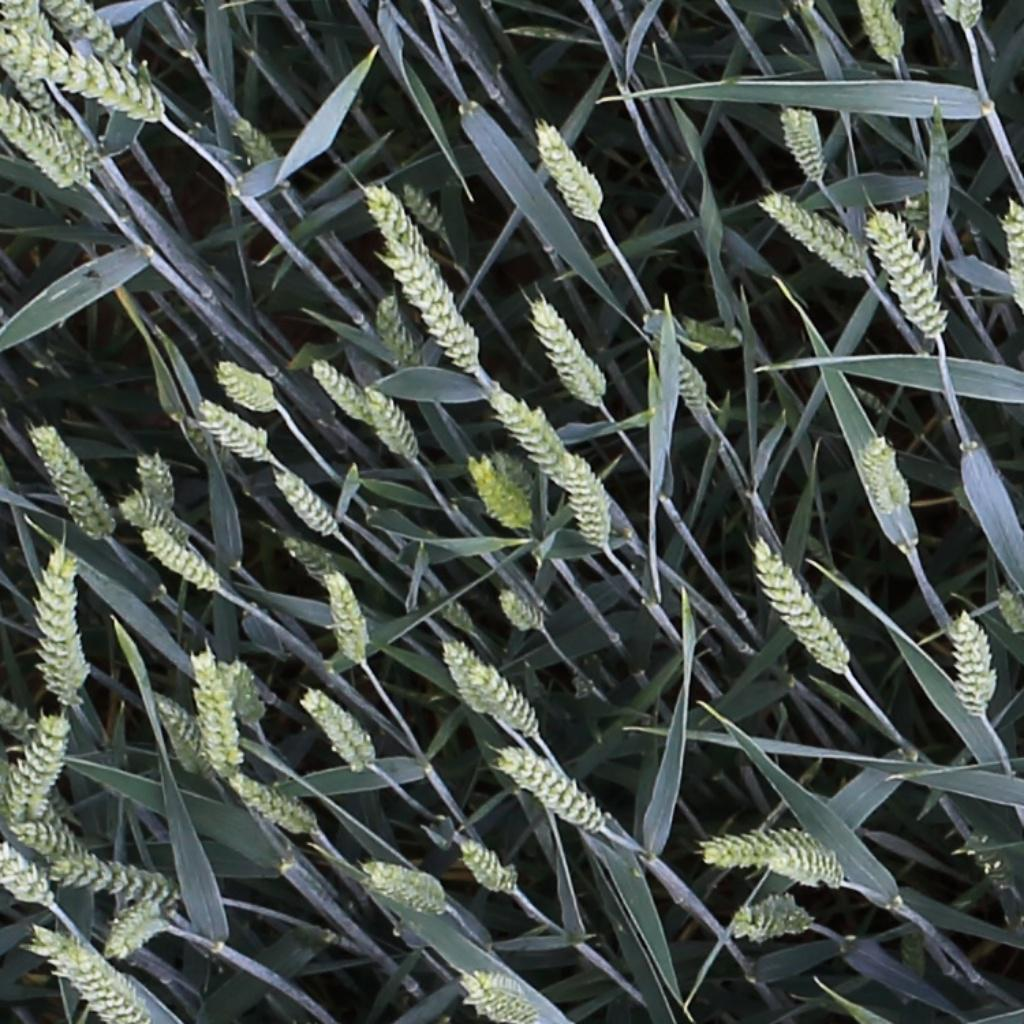0-0: (0, 25, 171, 125), (380, 233, 479, 378), (748, 537, 849, 675), (28, 924, 144, 1021), (27, 419, 114, 540), (866, 204, 944, 338), (487, 382, 576, 494), (692, 828, 844, 889), (760, 193, 868, 278), (0, 94, 93, 192), (496, 749, 603, 834), (38, 546, 90, 712), (527, 296, 600, 409), (529, 114, 604, 222), (44, 855, 180, 912), (460, 655, 542, 741), (10, 711, 69, 828), (226, 775, 321, 845), (46, 0, 145, 66), (297, 688, 370, 775), (188, 647, 234, 782), (357, 178, 428, 263), (150, 693, 214, 786), (652, 324, 711, 416), (462, 454, 529, 533), (268, 468, 339, 542), (562, 451, 614, 550), (949, 608, 1000, 707), (305, 356, 375, 427), (360, 380, 419, 464), (726, 895, 814, 948), (436, 640, 492, 723), (361, 857, 445, 912), (140, 531, 215, 592), (320, 569, 365, 669), (861, 432, 914, 516), (200, 398, 269, 462), (776, 99, 826, 184), (1, 1, 59, 72), (371, 289, 420, 372), (454, 839, 516, 898), (8, 826, 92, 869), (107, 903, 165, 964), (0, 843, 53, 909), (857, 1, 909, 68), (463, 972, 533, 1021), (5, 51, 58, 114), (120, 496, 193, 539), (394, 176, 446, 236), (211, 361, 274, 410), (133, 445, 172, 519), (1003, 195, 1024, 326), (494, 587, 544, 637), (235, 117, 278, 172), (227, 658, 261, 720), (938, 1, 987, 30)
